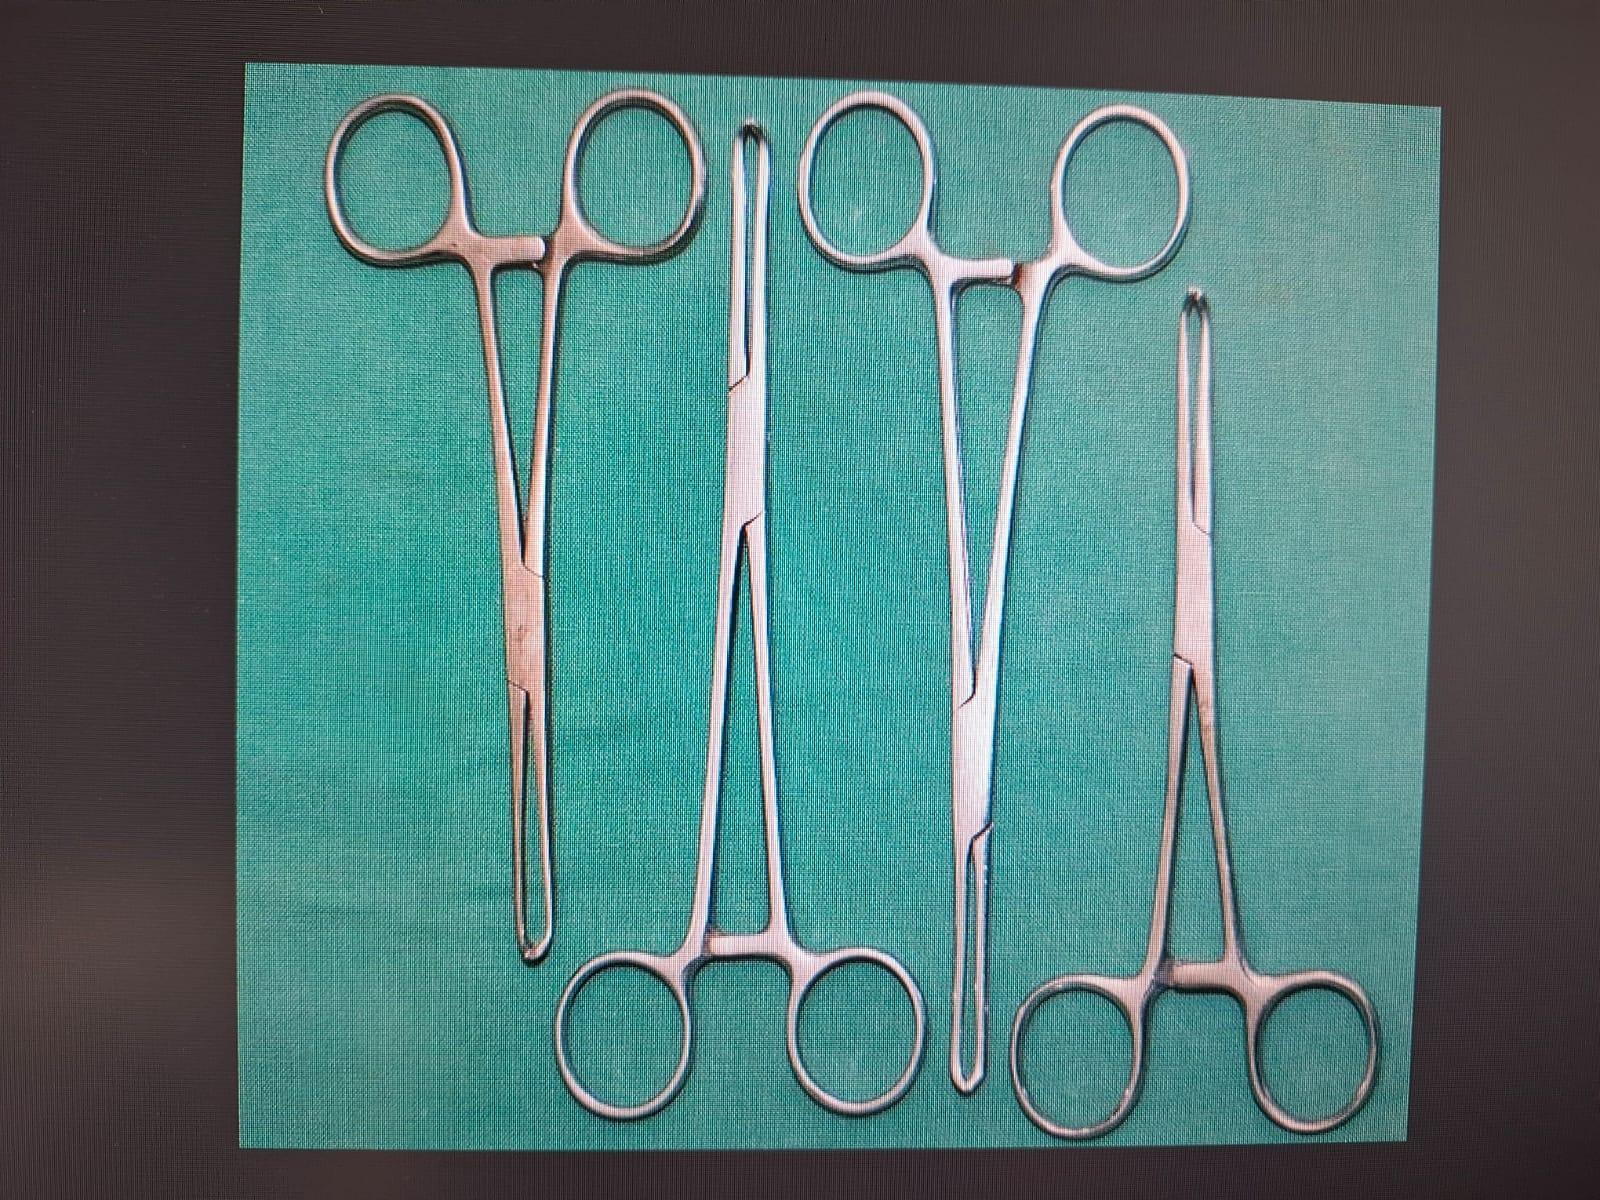Allis Forceps: (532, 102, 940, 1145), (782, 78, 1194, 1105), (320, 79, 724, 972), (1000, 270, 1410, 1145)
